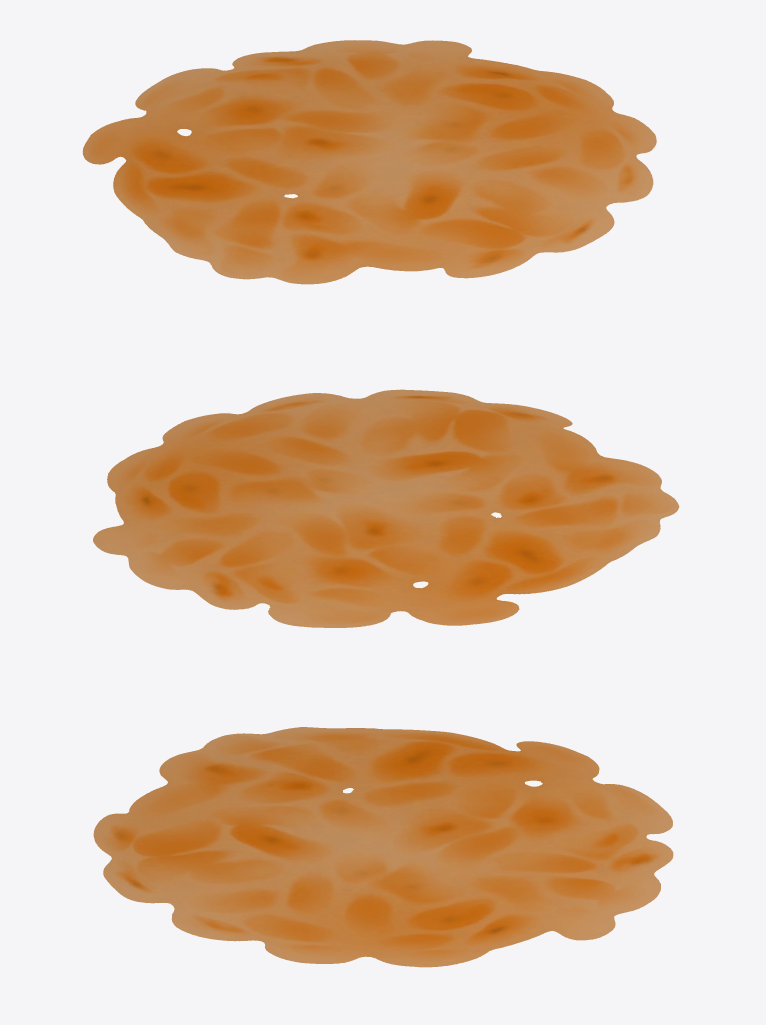
Rendered from Pizza_Mozarella_Cooked.fbx.
The picture shows the model from 3 angles, top to bottom: view 1: azimuth 30°, elevation 25°; view 2: azimuth 150°, elevation 25°; view 3: azimuth 270°, elevation 25°; orthographic projection. The views are drawn at different scales.
Parts seen in each view (by area): view 1: Pizza_Mozarella_Cooked; view 2: Pizza_Mozarella_Cooked; view 3: Pizza_Mozarella_Cooked.
Boxes of the visible parts, x1,y1,x2,y2 form: Pizza_Mozarella_Cooked: [82, 40, 656, 284]; Pizza_Mozarella_Cooked: [93, 389, 679, 627]; Pizza_Mozarella_Cooked: [93, 727, 673, 967].
Bounding box in the file's own units: 0.7648 × 0.0147 × 0.7615.
Materials: 1 (1 with a texture image).
